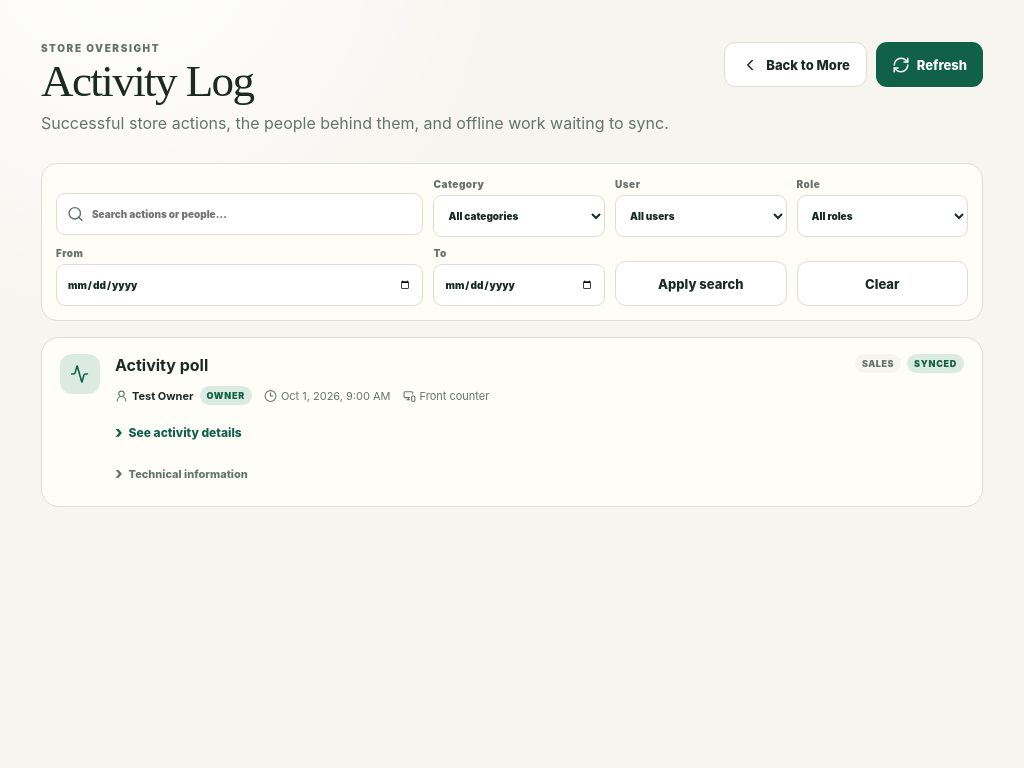
Test: Activity log UI and cache › polls every 30 seconds online and only reads local records offline
This screenshot has width=1024, height=768.
Expected: the text "Activity poll" is shown, x1=115 y1=354 x2=208 y2=377
Step 1. Select "Sales" in the dropdown named "Activity category" → (519, 216), box x1=434 y1=195 x2=605 y2=237
Wait 60000 ms
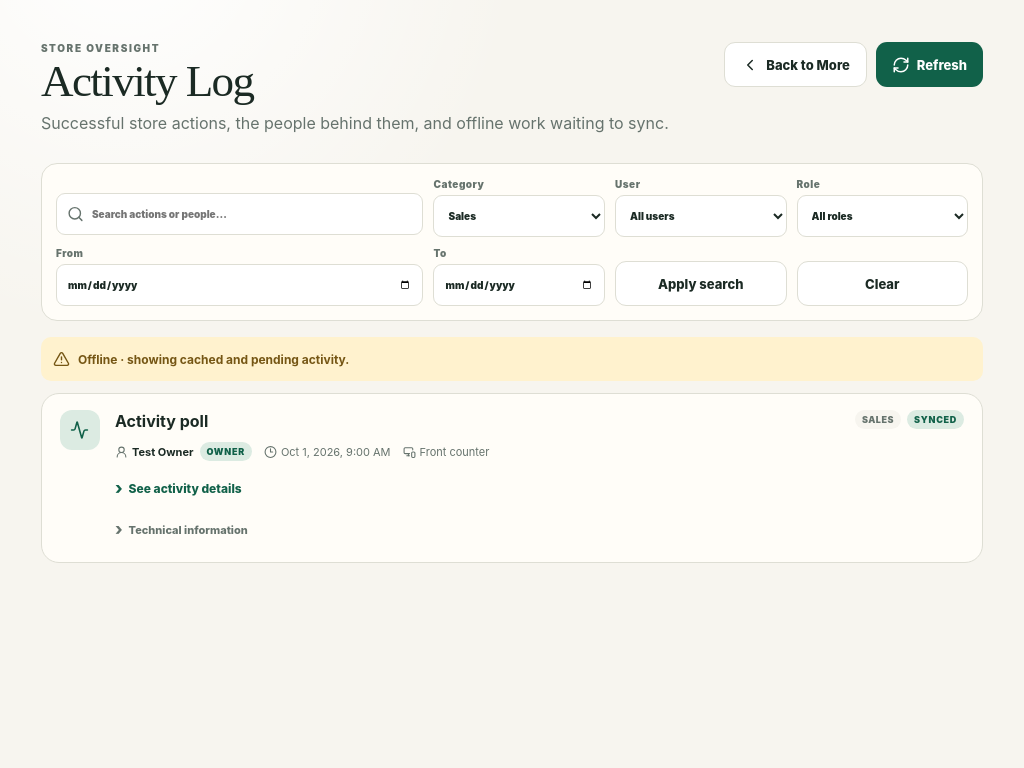
Result: the text "Offline · showing cached and pending activity." is shown at x1=41 y1=337 x2=983 y2=381
